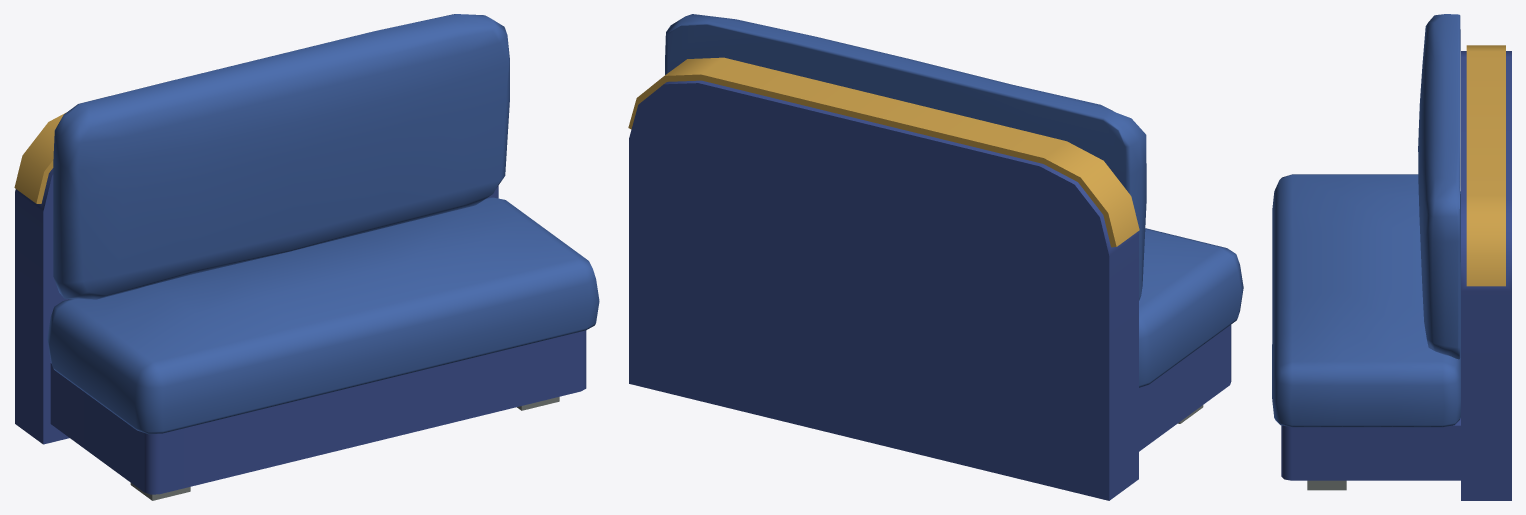
The model's file is SM_Prop_SofaBooth_01.obj.
3 renders of one model, left to right at view 1: azimuth 30°, elevation 25°; view 2: azimuth 150°, elevation 25°; view 3: azimuth 270°, elevation 25°, orthographic. The views are drawn at different scales.
Parts seen in each view (by area): view 1: SM_Prop_SofaBooth_01_Mat_SwatchOverlay_AtlasSchool_01_Inst; view 2: SM_Prop_SofaBooth_01_Mat_SwatchOverlay_AtlasSchool_01_Inst; view 3: SM_Prop_SofaBooth_01_Mat_SwatchOverlay_AtlasSchool_01_Inst.
Boxes of the visible parts, x1=… form: SM_Prop_SofaBooth_01_Mat_SwatchOverlay_AtlasSchool_01_Inst: x1=14, y1=14, x2=599, y2=500; SM_Prop_SofaBooth_01_Mat_SwatchOverlay_AtlasSchool_01_Inst: x1=628, y1=14, x2=1243, y2=500; SM_Prop_SofaBooth_01_Mat_SwatchOverlay_AtlasSchool_01_Inst: x1=1272, y1=14, x2=1511, y2=500.
Size of the model in its own units: 1.91 by 1.32 by 0.9457.
Materials: 1 (1 with a texture image).
